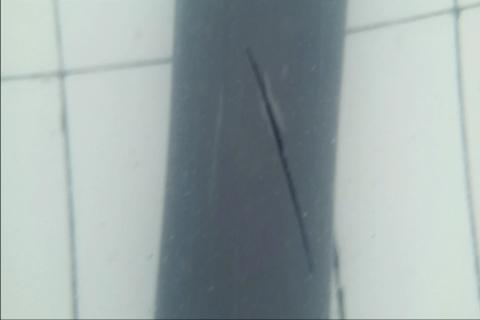keretakan: (243, 43, 316, 277)
